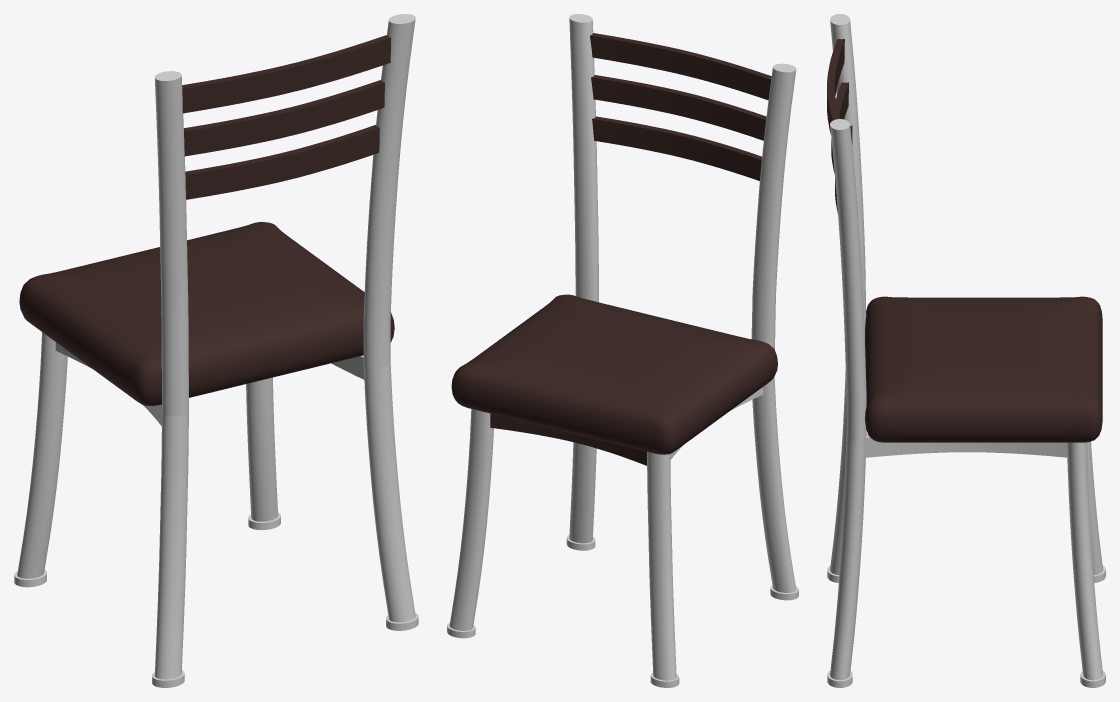
File: Chaise1_4.fbx
The picture shows the model from 3 angles, left to right: view 1: azimuth 30°, elevation 25°; view 2: azimuth 150°, elevation 25°; view 3: azimuth 270°, elevation 25°; orthographic projection. The views are drawn at different scales.
Visible parts, largest first — view 1: pCube2654, pCylinder1646, pCylinder1647, pCylinder1651, pCylinder1650, pCylinder1648, pCube2653, pCube2652, pCube2651, pCylinder1649; view 2: pCube2654, pCylinder1646, pCylinder1647, pCylinder1648, pCylinder1649, pCylinder1651, pCube2653, pCube2652, pCube2651, pCylinder1650, pCube2659; view 3: pCube2654, pCylinder1647, pCylinder1650, pCylinder1649, pCylinder1646, pCube2655, pCylinder1651, pCylinder1648, pCube2653, pCube2652.
Part boxes in pixels (box(x1,y1,x2,y2)): pCube2654: box(19, 222, 394, 405); pCylinder1646: box(154, 71, 188, 416); pCylinder1647: box(363, 14, 415, 367); pCylinder1651: box(152, 411, 188, 687); pCylinder1650: box(363, 362, 418, 630); pCylinder1648: box(14, 332, 67, 587); pCube2653: box(182, 35, 391, 113); pCube2652: box(184, 80, 384, 156); pCube2651: box(185, 125, 379, 199); pCylinder1649: box(246, 377, 280, 529); pCube2654: box(451, 294, 777, 454); pCylinder1646: box(751, 63, 796, 349); pCylinder1647: box(569, 14, 598, 302); pCylinder1648: box(647, 452, 679, 687); pCylinder1649: box(447, 409, 493, 638); pCylinder1651: box(752, 376, 798, 600); pCube2653: box(590, 33, 771, 100); pCube2652: box(591, 75, 766, 140); pCube2651: box(592, 116, 761, 180); pCylinder1650: box(566, 442, 596, 550); pCube2659: box(490, 413, 646, 465); pCube2654: box(865, 296, 1102, 442); pCylinder1647: box(830, 119, 866, 440); pCylinder1650: box(827, 436, 865, 687); pCylinder1649: box(1067, 442, 1105, 687); pCylinder1646: box(830, 14, 866, 337); pCube2655: box(865, 433, 1067, 457); pCylinder1651: box(827, 373, 846, 582); pCylinder1648: box(1087, 441, 1105, 582); pCube2653: box(827, 38, 844, 134); pCube2652: box(831, 82, 848, 174).
Bounding box in the file's own units: 38.53 × 84.55 × 38.35.
